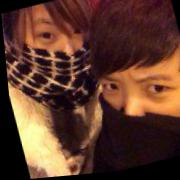WRONG: (89, 42, 180, 167), (17, 1, 94, 89)
